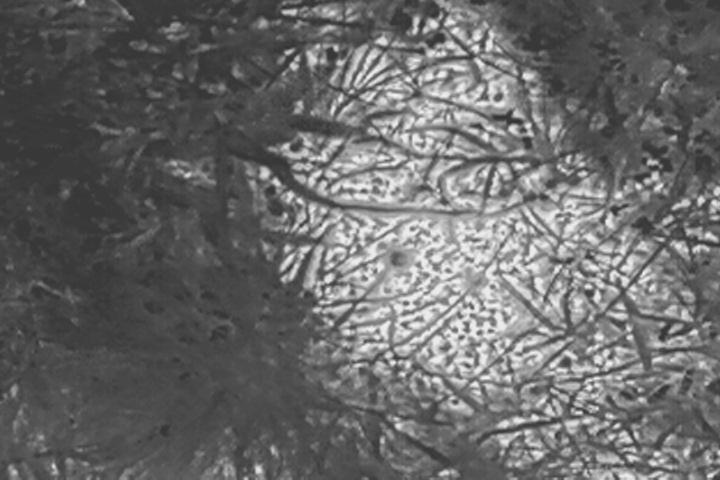landmine: (380, 243, 415, 276)
